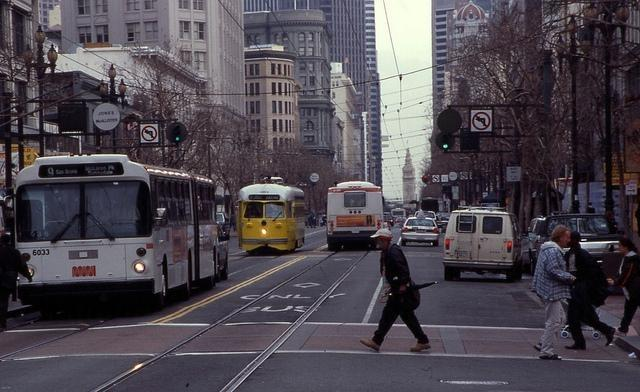bus: (12, 156, 220, 320), (328, 180, 387, 250), (391, 206, 406, 223)
car: (440, 206, 524, 284), (534, 210, 624, 276), (400, 208, 440, 247), (528, 216, 548, 274), (436, 212, 450, 228), (413, 212, 438, 220)
